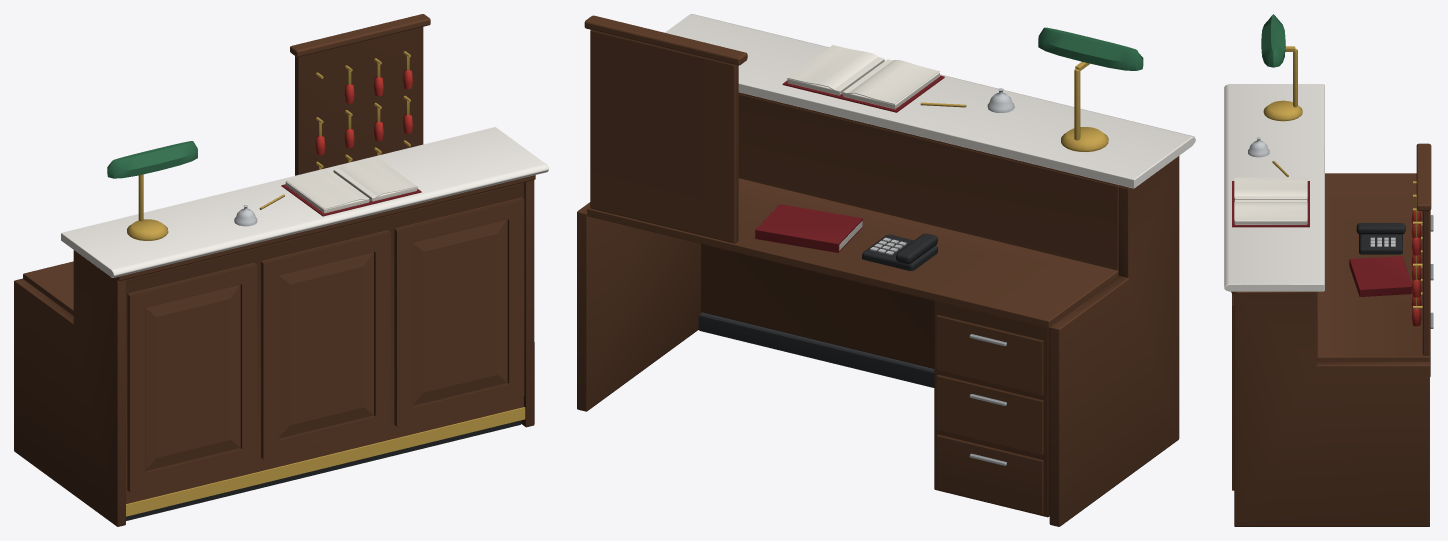
Rendered from hotelReception.glb.
3 views of the same model, side by side, from view 1: azimuth 30°, elevation 25°; view 2: azimuth 150°, elevation 25°; view 3: azimuth 270°, elevation 25° (orthographic). The views are drawn at different scales.
Parts seen in each view (by area): view 1: desk; view 2: desk; view 3: desk.
Boxes of the visible parts, left/top/right/bottom form: desk: left=14, top=14, right=548, bottom=526; desk: left=577, top=14, right=1195, bottom=526; desk: left=1224, top=14, right=1433, bottom=526.
Size of the model in its own units: 1.94 by 1.48 by 0.856.
